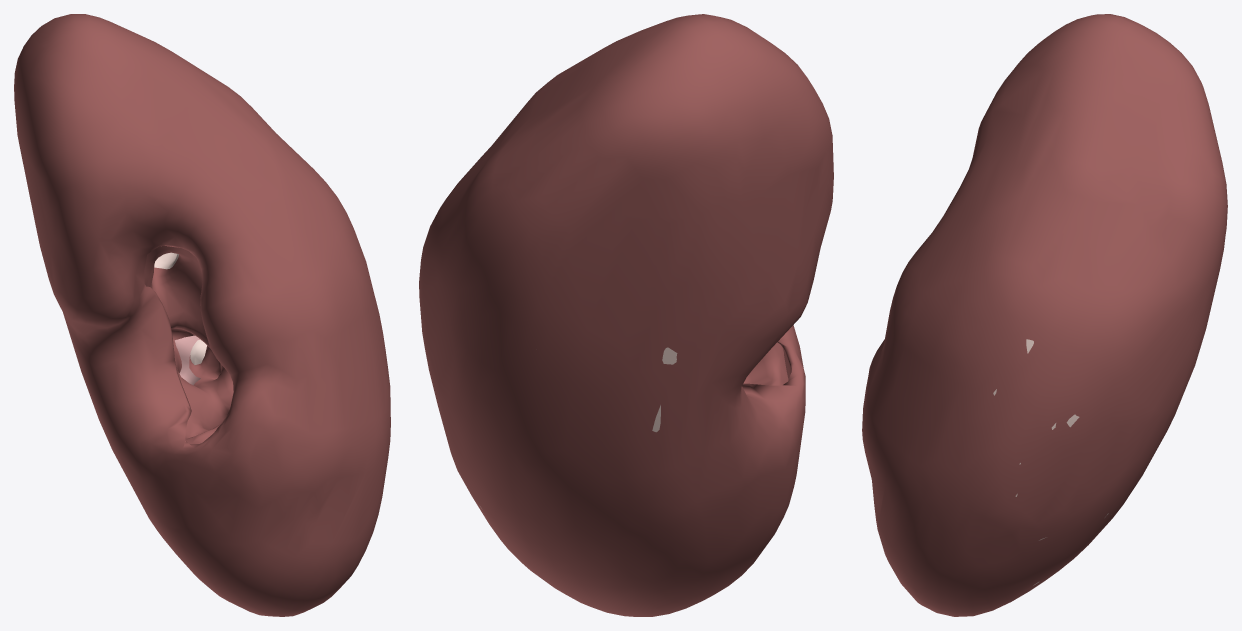
The model's file is kidney.glb.
3 views of the same model, side by side, from view 1: azimuth 30°, elevation 25°; view 2: azimuth 150°, elevation 25°; view 3: azimuth 270°, elevation 25° (orthographic). The views are drawn at different scales.
Visible parts, largest first — view 1: VH_F_kidney_capsule_L, VH_F_hilum_of_kidney_L, VH_F_renal_pyramid_L_g, VH_F_renal_column_L; view 2: VH_F_kidney_capsule_L, VH_F_hilum_of_kidney_L; view 3: VH_F_kidney_capsule_L.
Boxes of the visible parts, x1=… form: VH_F_kidney_capsule_L: x1=14, y1=14, x2=390, y2=616; VH_F_hilum_of_kidney_L: x1=144, y1=246, x2=233, y2=443; VH_F_renal_pyramid_L_g: x1=174, y1=335, x2=200, y2=385; VH_F_renal_column_L: x1=154, y1=252, x2=206, y2=364; VH_F_kidney_capsule_L: x1=419, y1=14, x2=833, y2=616; VH_F_hilum_of_kidney_L: x1=743, y1=342, x2=788, y2=385; VH_F_kidney_capsule_L: x1=862, y1=14, x2=1227, y2=616.
Bounding box in the file's own units: 0.0731 × 0.1249 × 0.0776.
